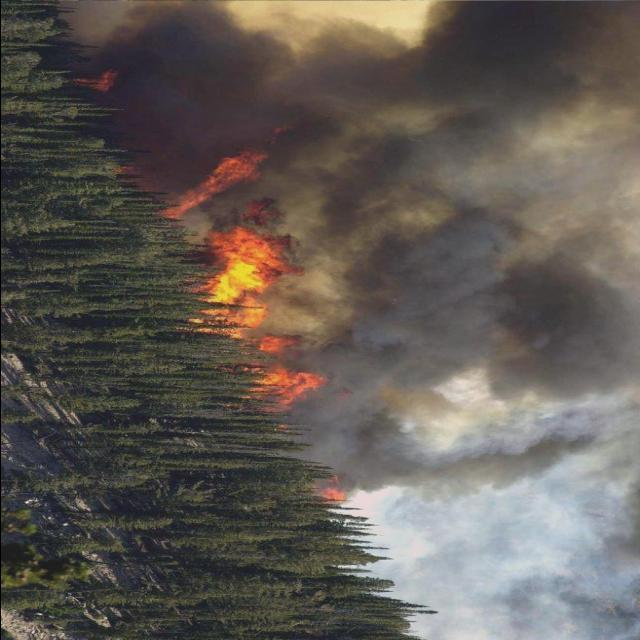Fire: (167, 144, 343, 428), (296, 472, 358, 512)
